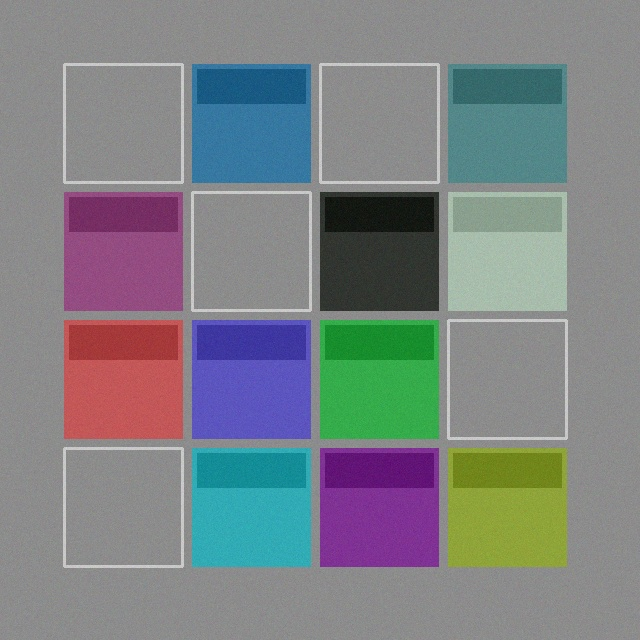space-empty: (64, 64, 182, 182), (320, 64, 438, 182), (192, 192, 310, 310), (448, 320, 566, 438), (64, 448, 182, 566)
space-occupied: (192, 64, 310, 182), (448, 64, 566, 182), (64, 192, 182, 310), (320, 192, 438, 310), (448, 192, 566, 310), (64, 320, 182, 438), (192, 320, 310, 438), (320, 320, 438, 438), (192, 448, 310, 566), (320, 448, 438, 566), (448, 448, 566, 566)
